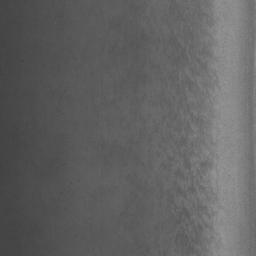Silk spot: (110, 0, 220, 256), (109, 30, 160, 53), (130, 1, 147, 17)
